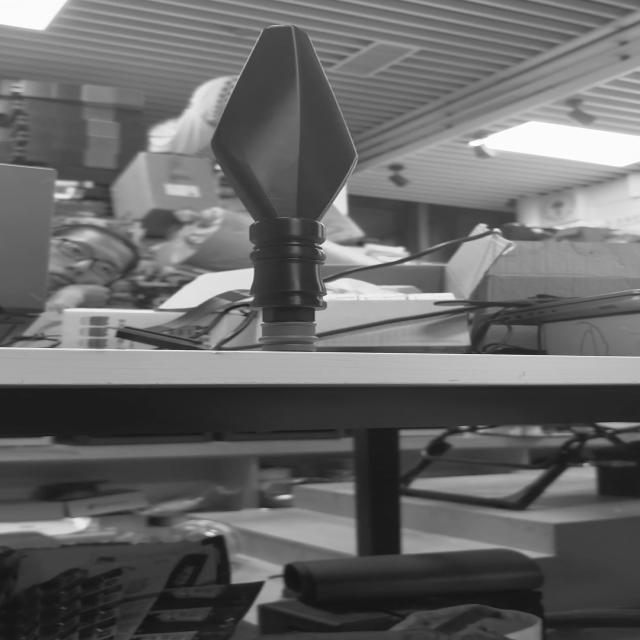base: (256, 319, 322, 355)
